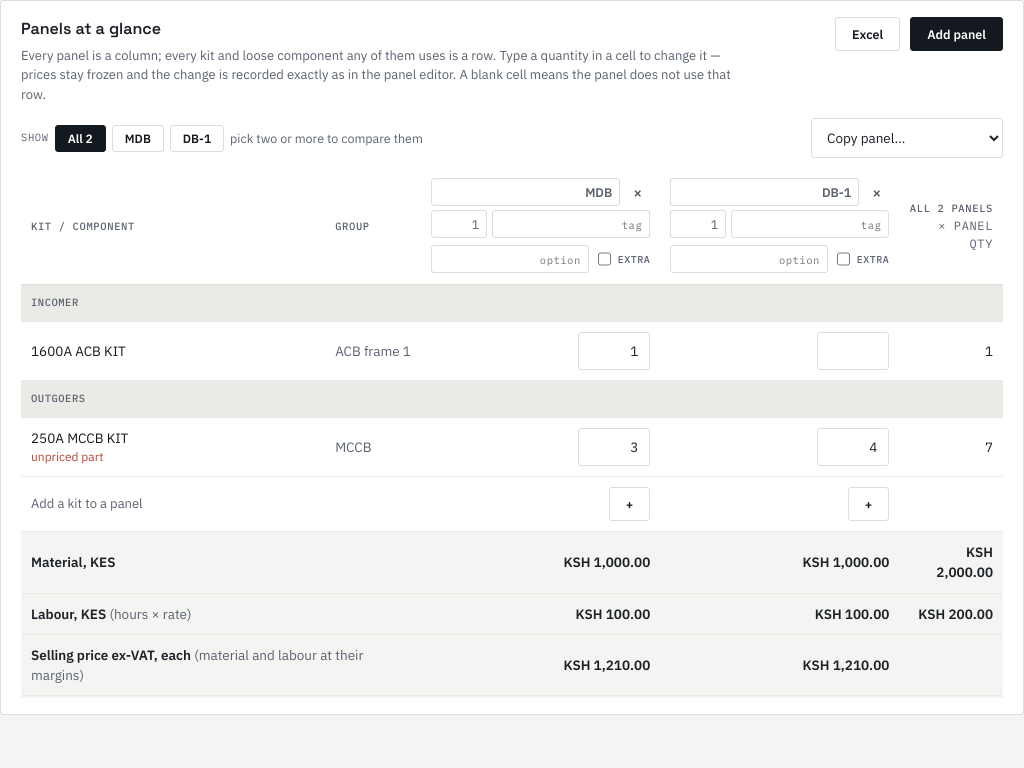
Scenario: the costing grid › shows every panel until one is picked, then only the picked ones
Expected: the number of column headings is 5, [21,170,325,285]; [325,170,421,285]; [421,170,660,285]; [660,170,899,285]; [899,170,1003,285]
Click the button "MDB": click(138, 138) [112,125,164,152]
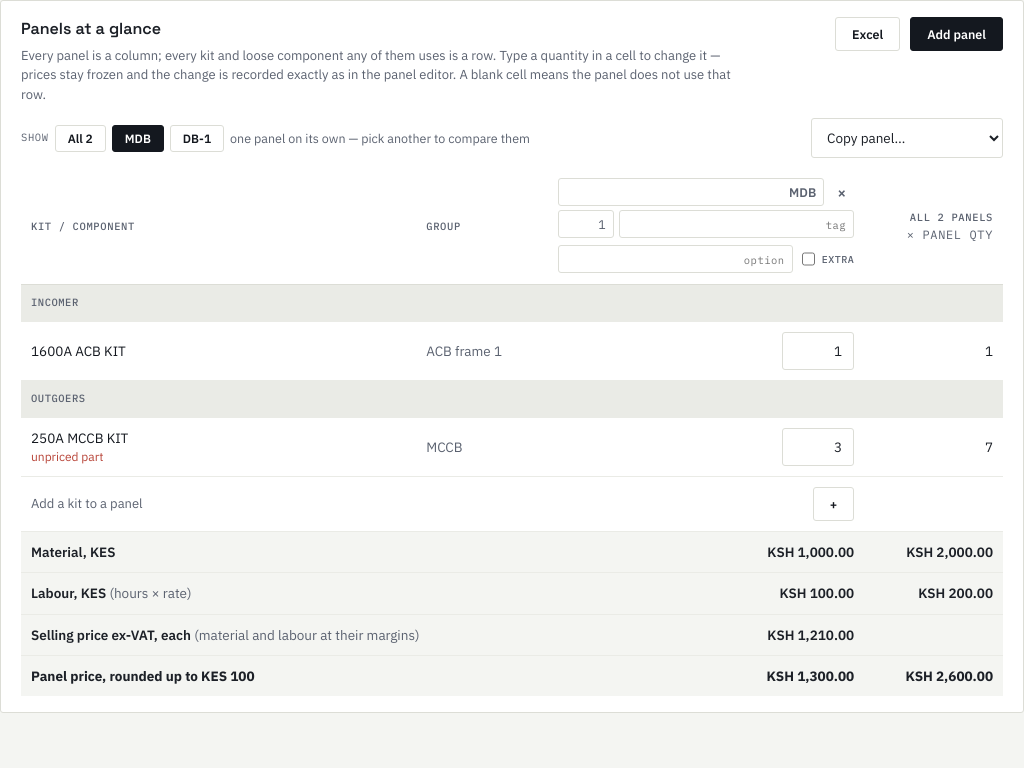
Expected: the number of column headings is 4, [21,170,416,285]; [416,170,548,285]; [548,170,864,285]; [864,170,1003,285]
Expected: the text "one panel on its own — pick another to compare them" is shown, [230,129,530,148]
